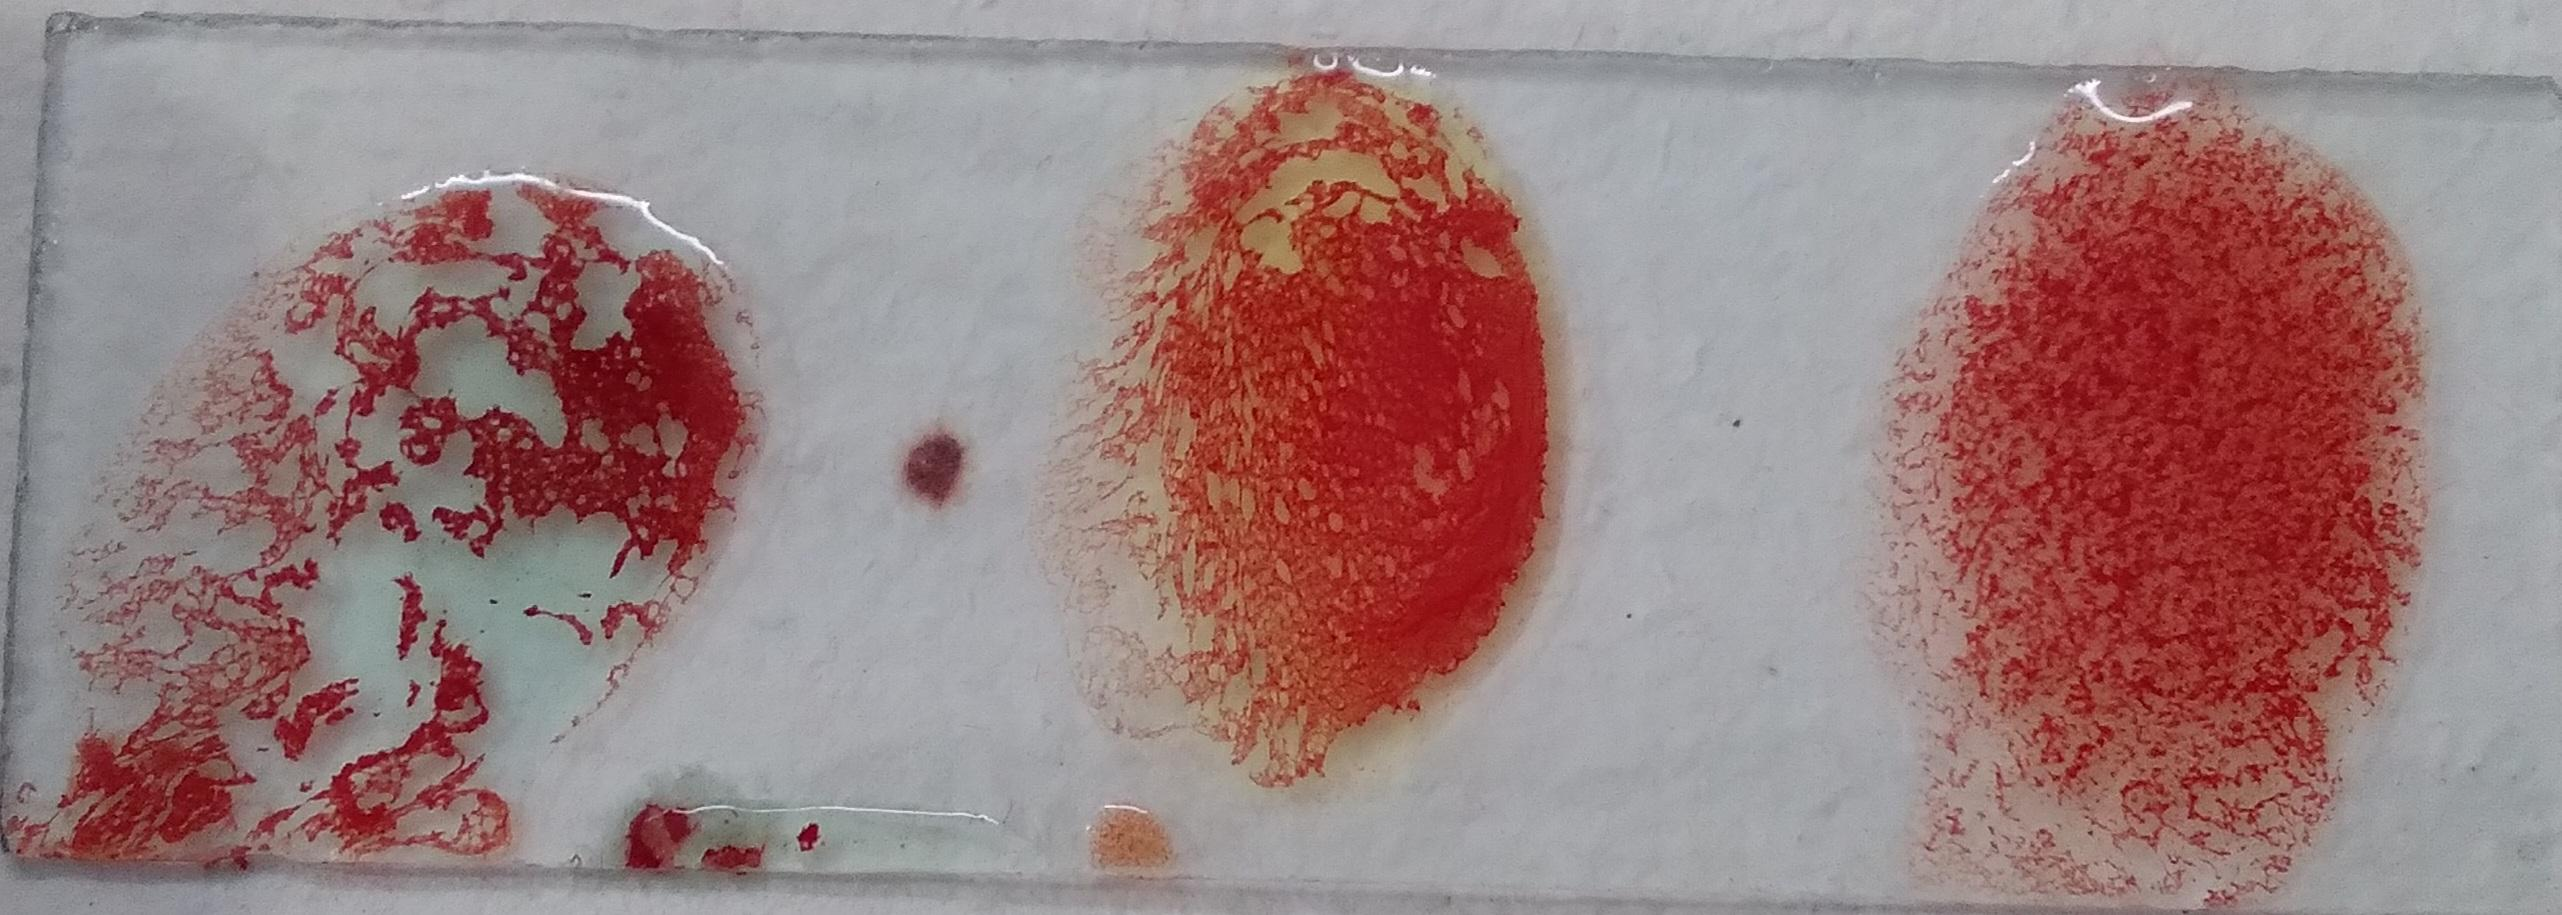A: (1805, 100, 2392, 740)
B: (972, 132, 1462, 855)
D: (147, 23, 618, 840)
